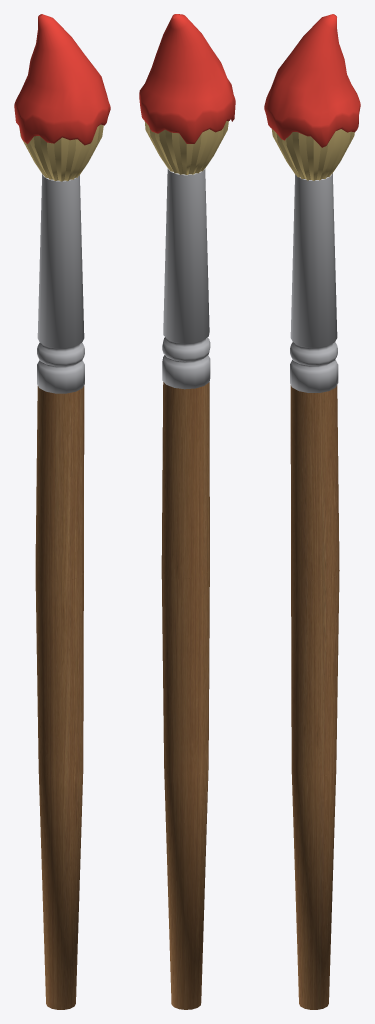
File: pincel Pintura.fbx
3 renders of one model, left to right at view 1: azimuth 90°, elevation 25°; view 2: azimuth 150°, elevation 25°; view 3: azimuth 270°, elevation 25°, orthographic.
Parts seen in each view (by area): view 1: Cylinder; view 2: Cylinder; view 3: Cylinder.
Part boxes in pixels (x1=…): Cylinder: x1=14, y1=14, x2=110, y2=1009; Cylinder: x1=139, y1=14, x2=235, y2=1009; Cylinder: x1=264, y1=14, x2=360, y2=1009.
Bounding box in the file's own units: 150 × 1726 × 153.
